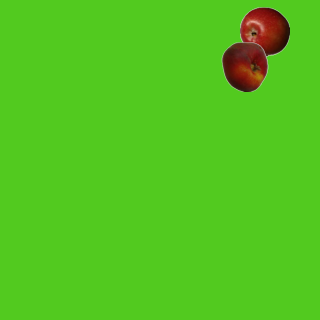Apple Braeburn: (239, 6, 289, 56)
Nectarine Flat: (219, 41, 269, 91)
